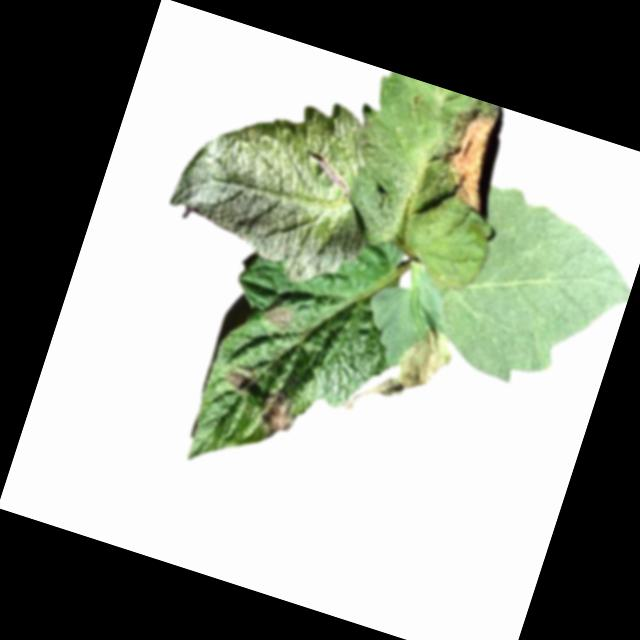Late_blight: (429, 101, 515, 219), (367, 316, 459, 419), (257, 390, 298, 442), (263, 304, 301, 335), (224, 368, 255, 394)
healthy: (157, 63, 400, 297), (429, 179, 640, 409)
